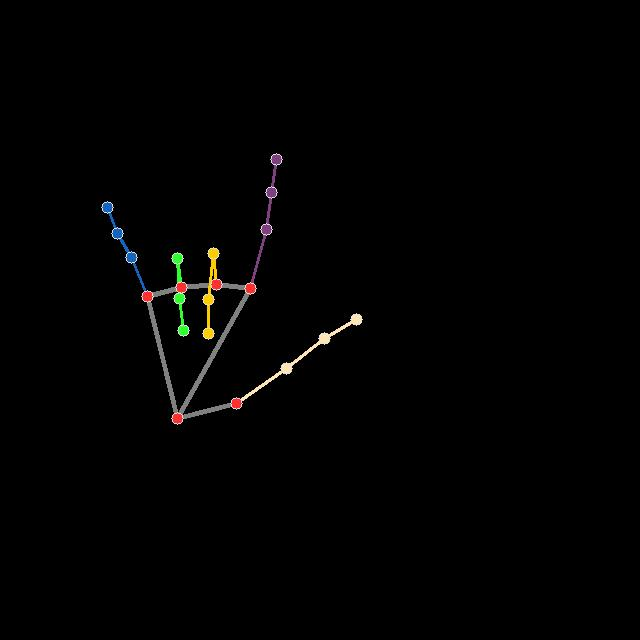spiderman: (102, 153, 363, 426)
